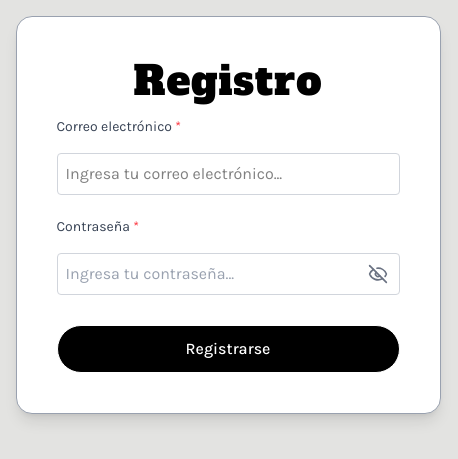
Test: signupPage › deberia mostrar un error si el correo es invalido
In the field with test id "email-input": point(228, 174) [56,153,400,195], type "correo-invalido@kdslf"
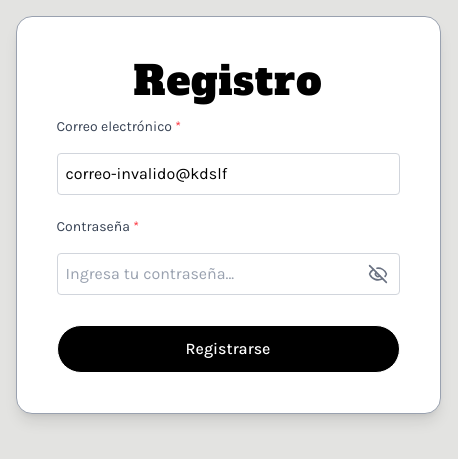
In the password field with test id "password-input": point(228, 274) [56,253,400,295], type "Contraseña123"
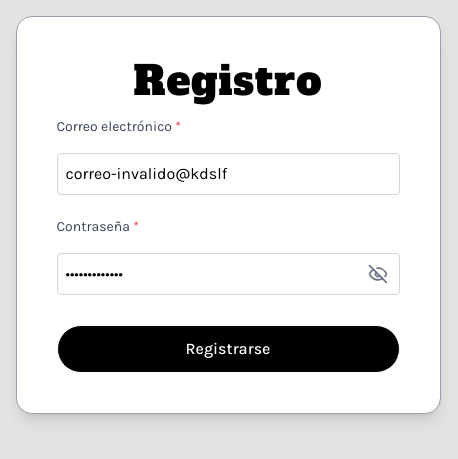
Click the button "Registrarse": point(228, 349) [56,325,400,373]
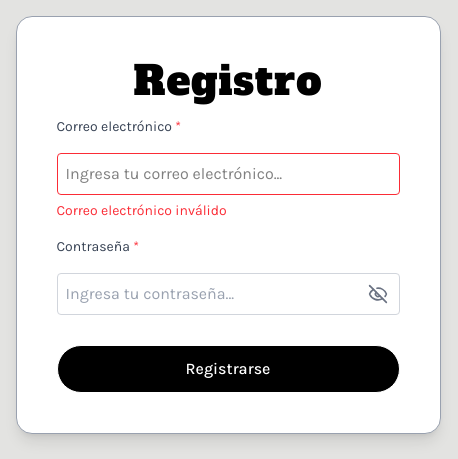
Check: the text "Correo electrónico inválido" is shown, box [56,201,227,221]
